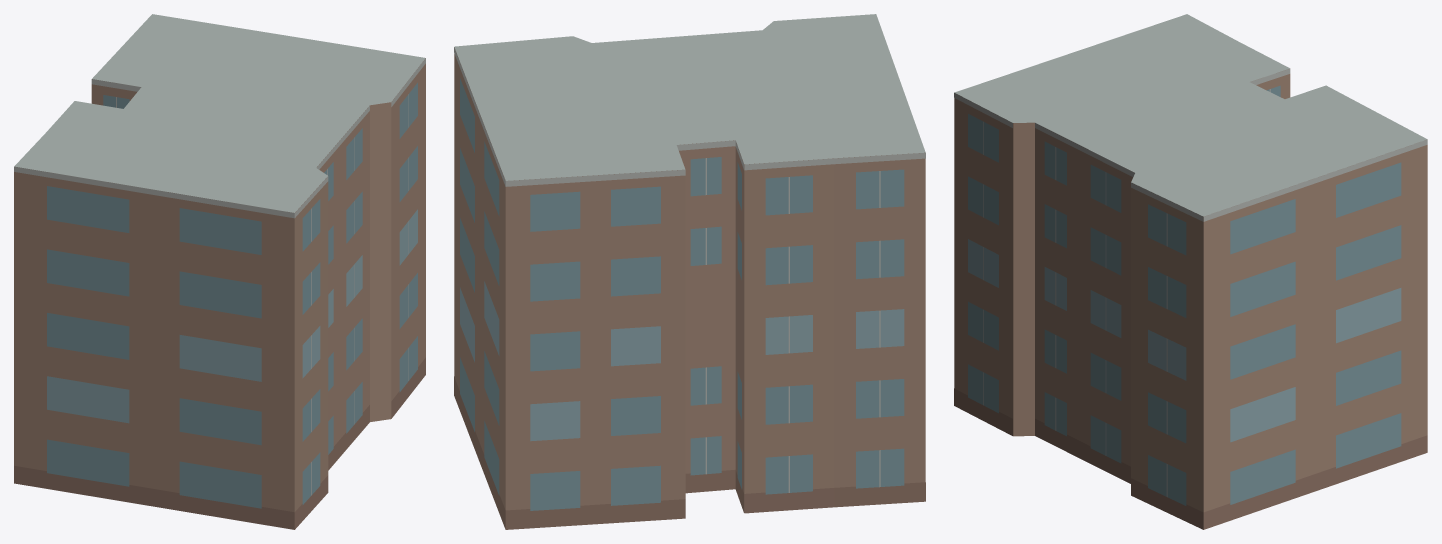
File: survey-upis-32986299.glb
3 views of the same model, side by side, from view 1: azimuth 30°, elevation 25°; view 2: azimuth 150°, elevation 25°; view 3: azimuth 270°, elevation 25° (orthographic). The views are drawn at different scales.
Visible parts, largest first — view 1: survey-upis-32986299.tmp; view 2: survey-upis-32986299.tmp; view 3: survey-upis-32986299.tmp.
Boxes of the visible parts, x1,y1,x2,y2 form: survey-upis-32986299.tmp: (14, 14, 425, 529); survey-upis-32986299.tmp: (454, 14, 925, 529); survey-upis-32986299.tmp: (954, 14, 1427, 529).
Size of the model in its own units: 20.02 by 14.43 by 19.77.
